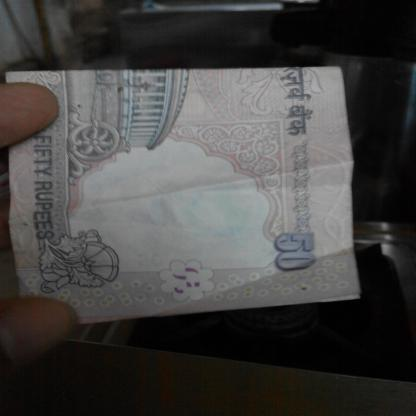Old50Back: (5, 66, 363, 325)
